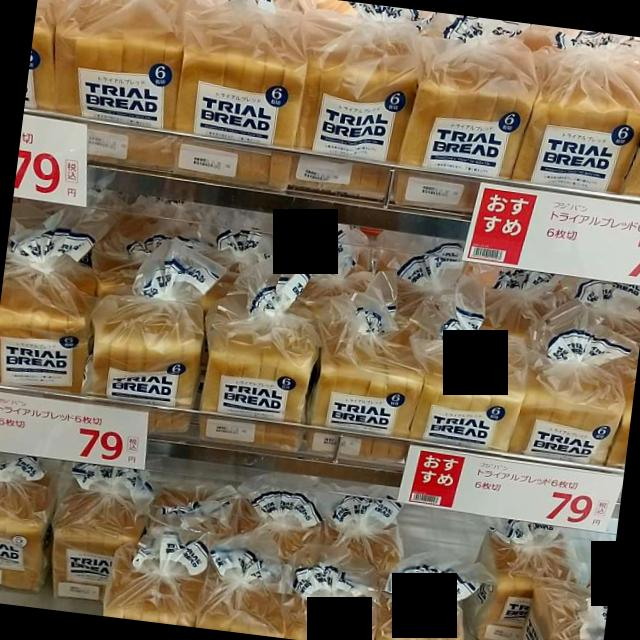bread: (392, 39, 535, 221), (81, 240, 226, 406), (198, 257, 320, 453), (176, 3, 306, 184), (305, 271, 424, 461), (53, 0, 182, 166), (295, 19, 417, 194), (507, 300, 633, 467), (410, 273, 528, 451), (512, 47, 640, 195), (0, 223, 104, 396), (46, 463, 155, 604), (471, 521, 569, 640), (102, 534, 209, 627), (195, 546, 301, 638), (376, 557, 487, 640), (232, 487, 337, 567), (139, 483, 252, 552), (319, 500, 405, 590), (0, 462, 57, 596), (281, 563, 379, 640), (518, 567, 612, 640)
